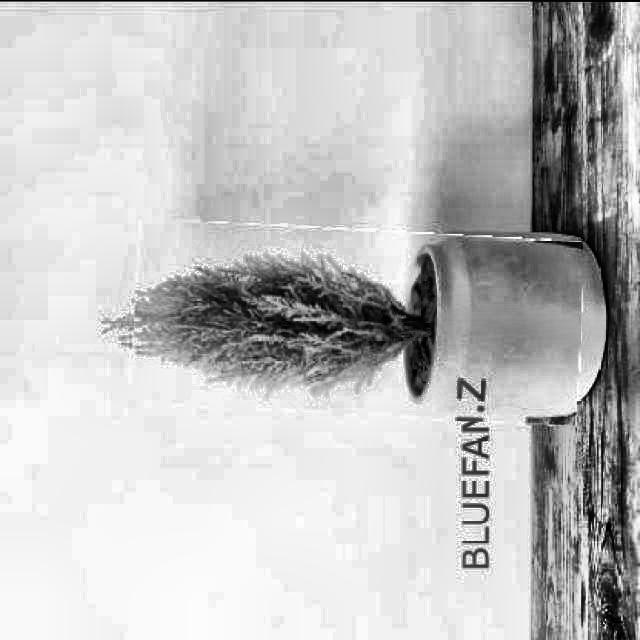plants: (134, 222, 583, 418)
